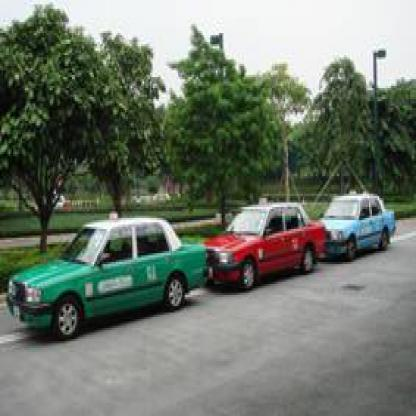taxi: (5, 208, 210, 346), (209, 197, 328, 294), (325, 190, 400, 261)
